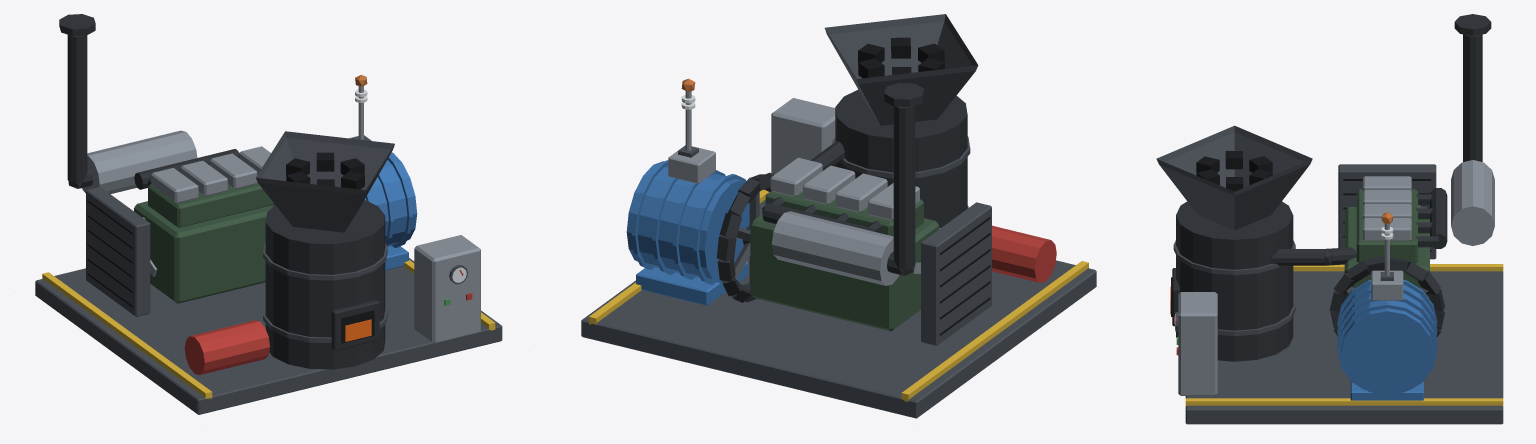
Rendered from generateur_combustible.glb.
The picture shows the model from 3 angles, left to right: view 1: azimuth 30°, elevation 25°; view 2: azimuth 150°, elevation 25°; view 3: azimuth 270°, elevation 25°; orthographic projection. The views are drawn at different scales.
Visible parts, largest first — view 1: pieces_acier_sombre.016, gazogene.002, pieces_vert_fonce.006, pieces_acier.018, tremie.002, pieces_fonte.012, silencieux.002, reservoir.002, pieces_noir.014, pieces_jaune.012, alternateur.004, pieces_bleu.006 (+1 smaller); view 2: pieces_acier_sombre.016, pieces_vert_fonce.006, pieces_acier.018, gazogene.002, tremie.002, alternateur.004, silencieux.002, pieces_fonte.012, pieces_bleu.006, pieces_jaune.012, pieces_noir.014, reservoir.002 (+3 smaller); view 3: pieces_acier_sombre.016, gazogene.002, tremie.002, pieces_acier.018, alternateur.004, pieces_fonte.012, silencieux.002, pieces_jaune.012, pieces_bleu.006, pieces_vert_fonce.006, volant_fonte.002, pieces_noir.014 (+1 smaller).
Boxes of the visible parts, <box> form: pieces_acier_sombre.016: <box>35,135,502,414</box>; gazogene.002: <box>265,200,385,369</box>; pieces_vert_fonce.006: <box>134,182,273,303</box>; pieces_acier.018: <box>151,86,480,343</box>; tremie.002: <box>256,131,394,232</box>; pieces_fonte.012: <box>67,35,379,350</box>; silencieux.002: <box>82,130,197,194</box>; reservoir.002: <box>184,320,269,374</box>; pieces_noir.014: <box>87,152,374,343</box>; pieces_jaune.012: <box>42,259,495,399</box>; alternateur.004: <box>364,152,417,246</box>; pieces_bleu.006: <box>366,155,412,270</box>; pieces_acier_sombre.016: <box>581,136,1096,418</box>; pieces_vert_fonce.006: <box>750,191,938,331</box>; pieces_acier.018: <box>668,91,919,220</box>; gazogene.002: <box>835,89,967,227</box>; tremie.002: <box>824,14,978,125</box>; alternateur.004: <box>626,161,749,282</box>; silencieux.002: <box>771,211,899,285</box>; pieces_fonte.012: <box>762,105,915,275</box>; pieces_bleu.006: <box>632,160,748,305</box>; pieces_jaune.012: <box>589,189,1088,401</box>; pieces_noir.014: <box>858,37,990,335</box>; reservoir.002: <box>992,225,1056,282</box>; pieces_acier_sombre.016: <box>1173,164,1503,424</box>; gazogene.002: <box>1176,201,1293,361</box>; tremie.002: <box>1156,125,1312,230</box>; pieces_acier.018: <box>1178,176,1411,395</box>; alternateur.004: <box>1341,284,1433,395</box>; pieces_fonte.012: <box>1172,34,1482,326</box>; silencieux.002: <box>1451,160,1494,245</box>; pieces_jaune.012: <box>1185,264,1503,406</box>; pieces_bleu.006: <box>1337,280,1437,400</box>; pieces_vert_fonce.006: <box>1344,189,1429,299</box>; volant_fonte.002: <box>1329,256,1444,336</box>; pieces_noir.014: <box>1171,151,1431,316</box>.
Bounding box in the file's own units: 1.5 × 1.23 × 1.5.
